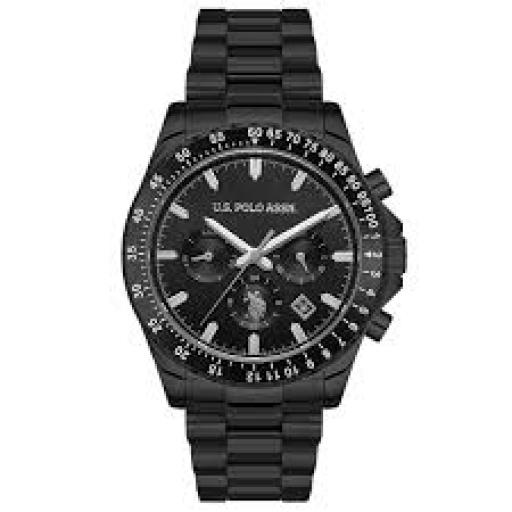KolSaati: (116, 4, 407, 512)
